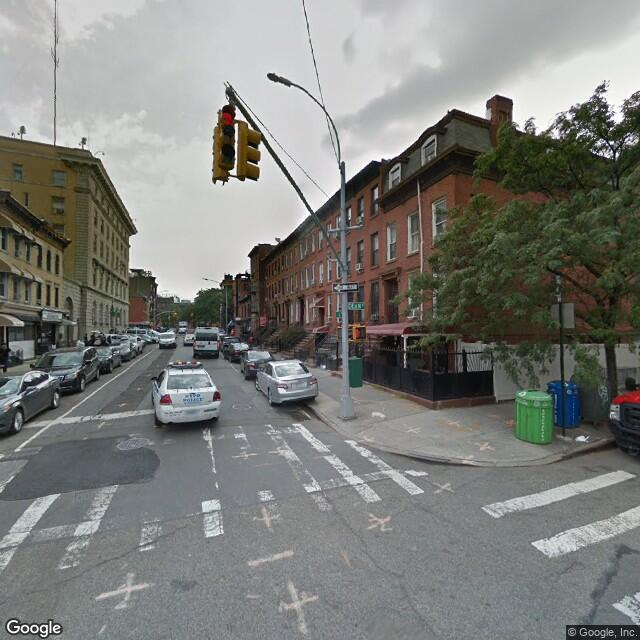litter: (370, 409, 394, 424), (573, 431, 594, 446)
